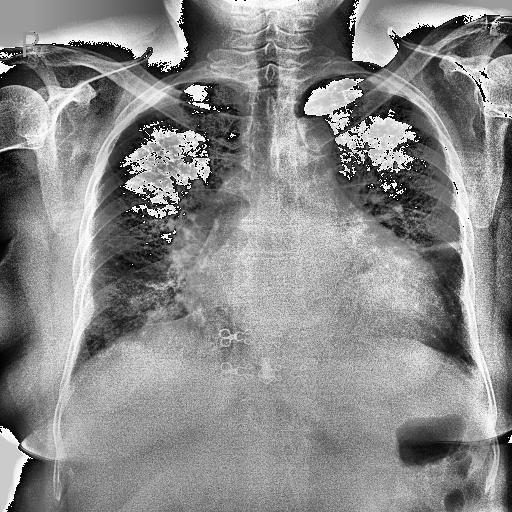0- Aortic enlargement: (278, 118, 340, 176)
13- Pulmonary fibrosis: (404, 236, 462, 254), (414, 240, 464, 256), (416, 240, 464, 252)
3- Cardiomegaly: (184, 248, 450, 356), (181, 264, 449, 350), (175, 266, 454, 342)
5- ILD: (78, 84, 228, 362), (324, 86, 460, 360)
